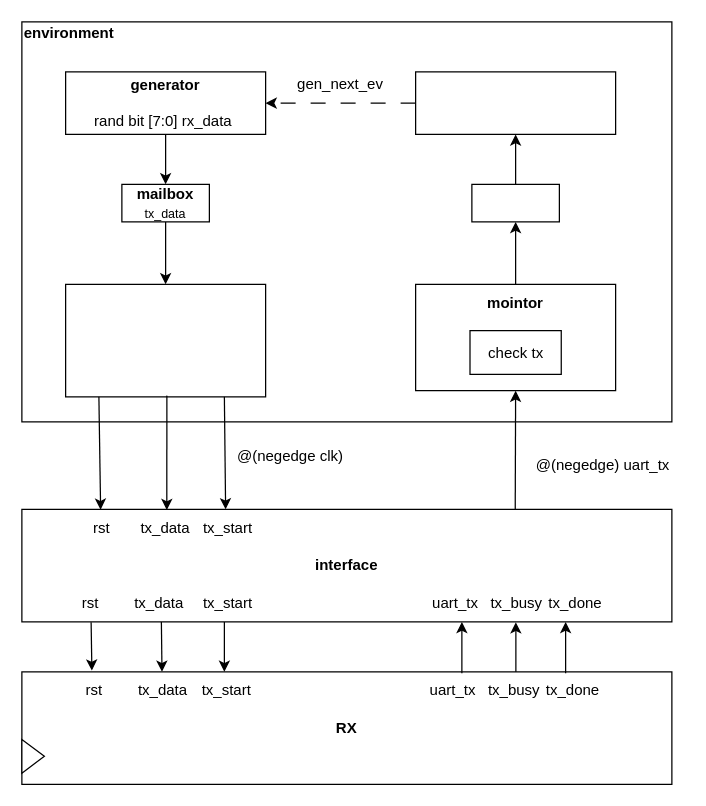
The diagram is 706 pixels wide and 806 high, and some of its shapes have lost their labels. Each missing label, with the centre of its shape:
"driver" belongs at point 165,340.
"mailbox all data" belongs at point 515,202.
"scoreboard" belongs at point 515,102.
